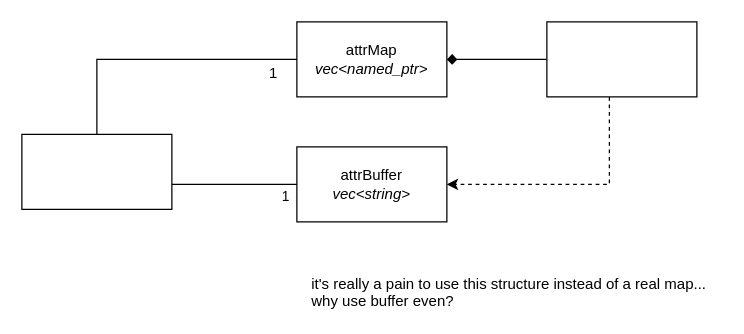
Image size: 744x334. Some labels were removed from this diagram. Each missing label, with the box of its shape:
jm_named_ptr: (546, 21, 697, 97)
parser_context_t: (21, 133, 172, 209)
